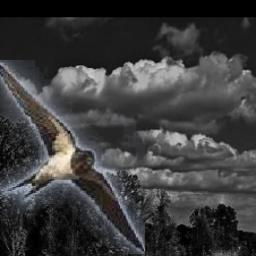Swallow: (0, 61, 145, 255)
